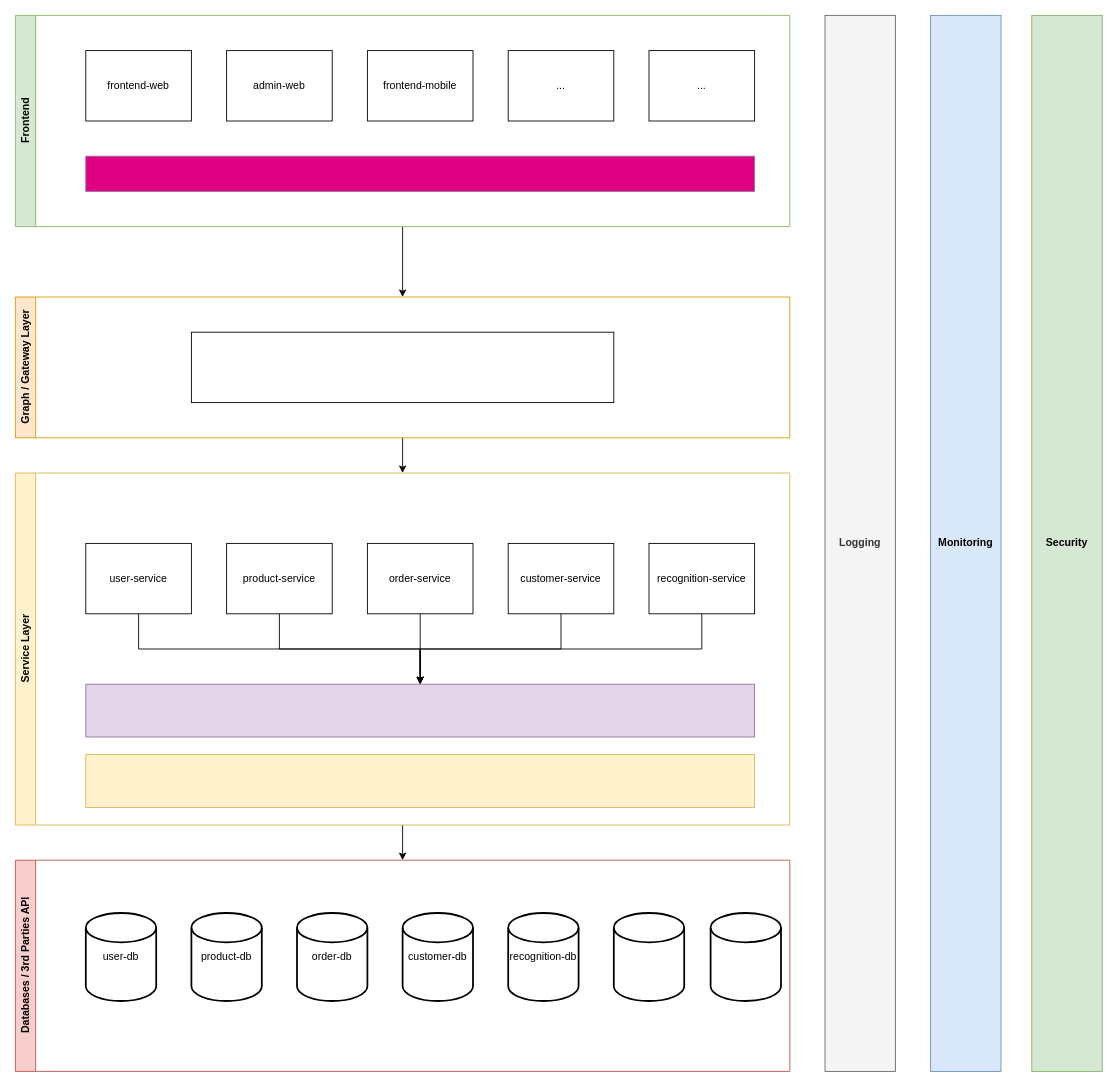
The diagram is 1118 pixels wide and 1087 high, and some of its shapes have lost their labels. The shapes that lost their labels are listed below. From the top down, each one's centre as x and y in pixels, then its label:
At (420,173): "GraphQL Client".
At (402,367): "GraphQL Federation".
At (420,710): "Message Queue".
At (420,780): "Distributed Cache".
